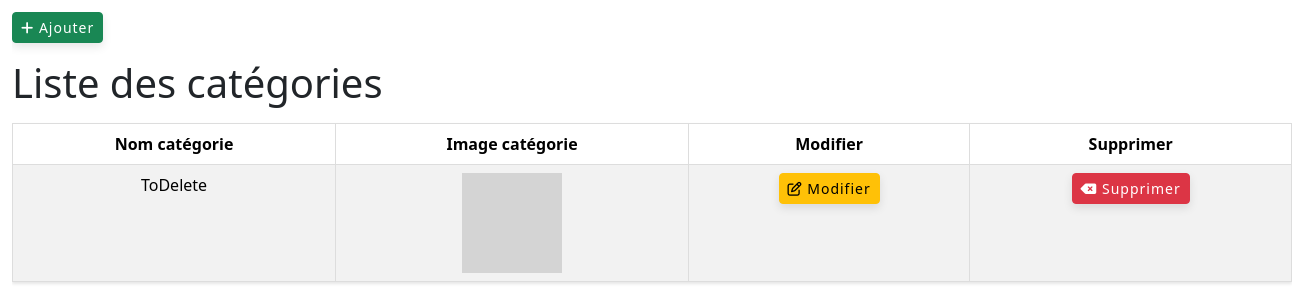
Scenario: supprime une catégorie après confirmation
This screenshot has width=1292, height=301.
Click the button "Supprimer" at (1131, 188), box [1072,173,1190,204]
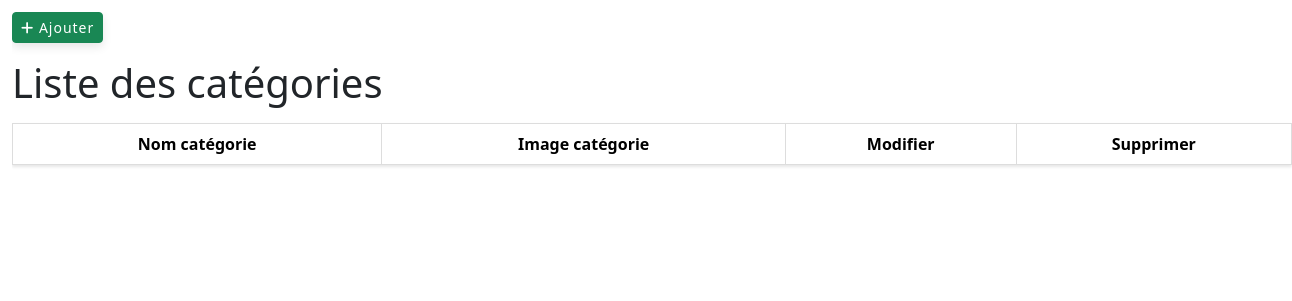
Expected: the text "ToDelete" is gone
